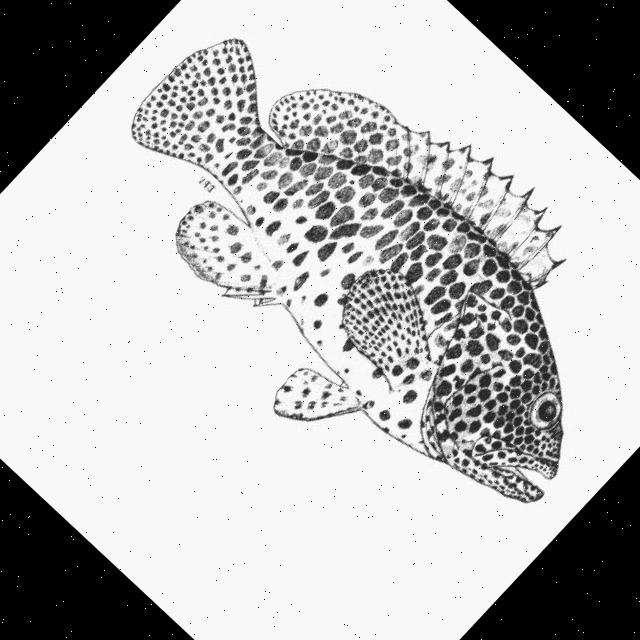ikan: (47, 0, 640, 587)
